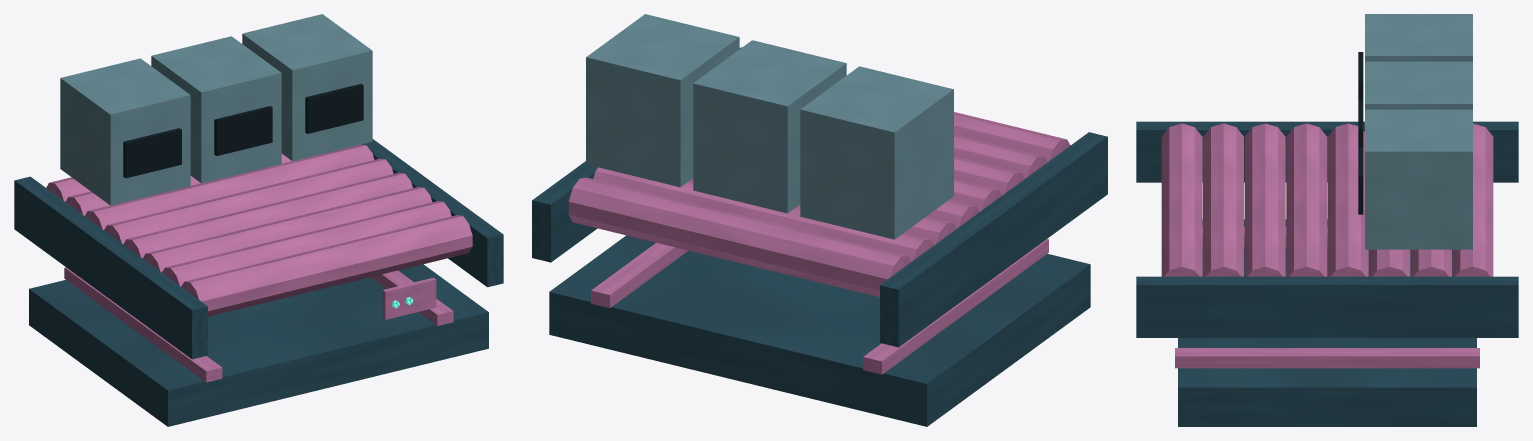
The model's file is atlas100-s063-a01.glb.
The picture shows the model from 3 angles, left to right: view 1: azimuth 30°, elevation 25°; view 2: azimuth 150°, elevation 25°; view 3: azimuth 270°, elevation 25°; orthographic projection. The views are drawn at different scales.
Visible parts, largest first — view 1: atlas100-s063-a01:part-000, atlas100-s063-a01:part-013, atlas100-s063-a01:part-011, atlas100-s063-a01:part-010, atlas100-s063-a01:part-015, atlas100-s063-a01:part-017, atlas100-s063-a01:part-006, atlas100-s063-a01:part-007, atlas100-s063-a01:part-008, atlas100-s063-a01:part-009, atlas100-s063-a01:part-005, atlas100-s063-a01:part-012 (+8 smaller); view 2: atlas100-s063-a01:part-000, atlas100-s063-a01:part-013, atlas100-s063-a01:part-017, atlas100-s063-a01:part-015, atlas100-s063-a01:part-011, atlas100-s063-a01:part-003, atlas100-s063-a01:part-004, atlas100-s063-a01:part-012, atlas100-s063-a01:part-001, atlas100-s063-a01:part-010, atlas100-s063-a01:part-002, atlas100-s063-a01:part-009 (+4 smaller); view 3: atlas100-s063-a01:part-012, atlas100-s063-a01:part-000, atlas100-s063-a01:part-017, atlas100-s063-a01:part-002, atlas100-s063-a01:part-007, atlas100-s063-a01:part-008, atlas100-s063-a01:part-010, atlas100-s063-a01:part-009, atlas100-s063-a01:part-006, atlas100-s063-a01:part-015, atlas100-s063-a01:part-013, atlas100-s063-a01:part-011 (+4 smaller).
Boxes of the visible parts, bbox=[...] form: atlas100-s063-a01:part-000: bbox=[29, 264, 488, 426]; atlas100-s063-a01:part-013: bbox=[60, 58, 190, 205]; atlas100-s063-a01:part-011: bbox=[14, 176, 207, 359]; atlas100-s063-a01:part-010: bbox=[181, 215, 472, 316]; atlas100-s063-a01:part-015: bbox=[151, 36, 281, 183]; atlas100-s063-a01:part-017: bbox=[242, 14, 372, 161]; atlas100-s063-a01:part-006: bbox=[104, 158, 393, 244]; atlas100-s063-a01:part-007: bbox=[123, 172, 412, 258]; atlas100-s063-a01:part-008: bbox=[143, 187, 432, 272]; atlas100-s063-a01:part-009: bbox=[162, 201, 451, 286]; atlas100-s063-a01:part-005: bbox=[85, 144, 374, 229]; atlas100-s063-a01:part-012: bbox=[361, 139, 503, 287]; atlas100-s063-a01:part-000: bbox=[549, 235, 1090, 426]; atlas100-s063-a01:part-013: bbox=[800, 66, 953, 239]; atlas100-s063-a01:part-017: bbox=[586, 14, 739, 187]; atlas100-s063-a01:part-015: bbox=[693, 40, 846, 213]; atlas100-s063-a01:part-011: bbox=[880, 132, 1107, 347]; atlas100-s063-a01:part-003: bbox=[568, 177, 911, 297]; atlas100-s063-a01:part-004: bbox=[593, 167, 933, 261]; atlas100-s063-a01:part-012: bbox=[532, 47, 741, 262]; atlas100-s063-a01:part-001: bbox=[863, 239, 1048, 374]; atlas100-s063-a01:part-010: bbox=[954, 112, 1070, 161]; atlas100-s063-a01:part-002: bbox=[591, 243, 688, 308]; atlas100-s063-a01:part-009: bbox=[954, 134, 1047, 178]; atlas100-s063-a01:part-012: bbox=[1136, 276, 1518, 337]; atlas100-s063-a01:part-000: bbox=[1178, 219, 1476, 426]; atlas100-s063-a01:part-017: bbox=[1365, 109, 1472, 249]; atlas100-s063-a01:part-002: bbox=[1175, 348, 1479, 368]; atlas100-s063-a01:part-007: bbox=[1286, 123, 1327, 276]; atlas100-s063-a01:part-008: bbox=[1244, 123, 1285, 276]; atlas100-s063-a01:part-010: bbox=[1161, 123, 1202, 276]; atlas100-s063-a01:part-009: bbox=[1203, 123, 1243, 276]; atlas100-s063-a01:part-006: bbox=[1327, 123, 1368, 276]; atlas100-s063-a01:part-015: bbox=[1365, 61, 1472, 109]; atlas100-s063-a01:part-013: bbox=[1365, 14, 1472, 61]; atlas100-s063-a01:part-011: bbox=[1136, 121, 1518, 182].
Bounding box in the file's own units: 2.4 × 1.73 × 2.3.
5 materials, 5 textured.
